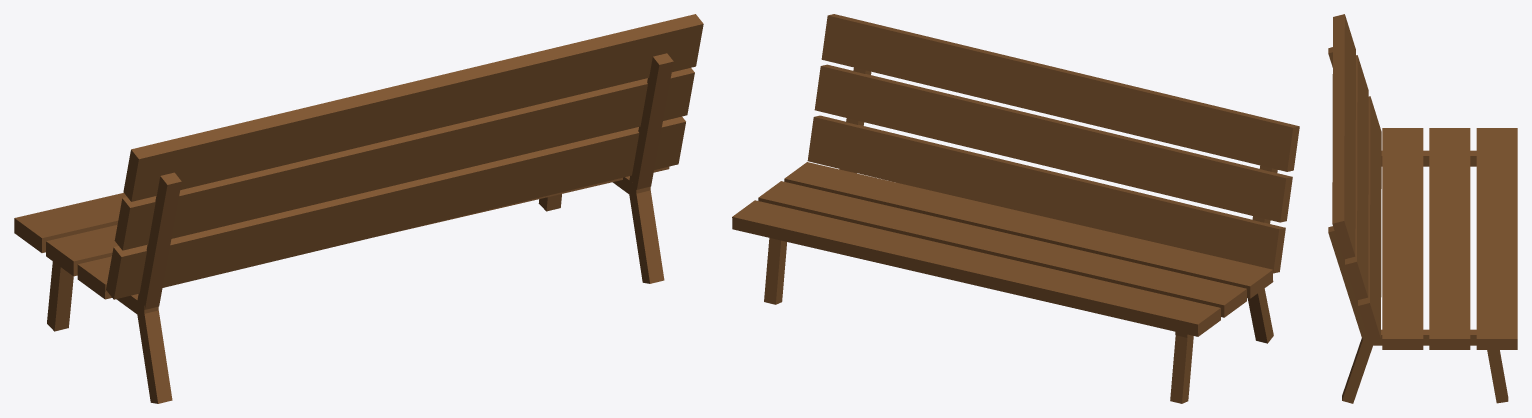
3 renders of one model, left to right at view 1: azimuth 30°, elevation 25°; view 2: azimuth 150°, elevation 25°; view 3: azimuth 270°, elevation 25°, orthographic. The views are drawn at different scales.
Visible parts, largest first — view 1: Cube.003, Cube.005, Cube.004, Cube.002, Cube.011, Cube.007, Cube.001, Cube.009, Cube.013, Cube, Cube.012; view 2: Cube.003, Cube.004, Cube.005, Cube.002, Cube.001, Cube, Cube.012, Cube.008, Cube.013; view 3: Cube, Cube.001, Cube.002, Cube.003, Cube.005, Cube.004, Cube.009, Cube.007, Cube.008, Cube.006, Cube.010.
Boxes of the visible parts, <box> form: Cube.003: <box>123,14,703,201</box>; Cube.005: <box>106,116,685,299</box>; Cube.004: <box>114,68,694,250</box>; Cube.002: <box>14,193,126,252</box>; Cube.011: <box>137,172,181,309</box>; Cube.007: <box>629,53,673,189</box>; Cube.001: <box>46,225,118,276</box>; Cube.009: <box>628,187,664,283</box>; Cube.013: <box>137,310,172,403</box>; Cube: <box>77,166,669,299</box>; Cube.012: <box>47,261,73,331</box>; Cube.003: <box>821,14,1299,171</box>; Cube.004: <box>814,64,1292,222</box>; Cube.005: <box>807,115,1285,273</box>; Cube.002: <box>732,200,1220,336</box>; Cube.001: <box>758,181,1246,317</box>; Cube: <box>784,162,1273,298</box>; Cube.012: <box>1170,335,1193,403</box>; Cube.008: <box>764,238,786,304</box>; Cube.013: <box>1247,288,1273,343</box>; Cube: <box>1382,128,1423,349</box>; Cube.001: <box>1429,128,1470,349</box>; Cube.002: <box>1476,128,1517,349</box>; Cube.003: <box>1332,14,1355,259</box>; Cube.005: <box>1358,96,1381,341</box>; Cube.004: <box>1345,55,1368,300</box>; Cube.009: <box>1342,338,1373,403</box>; Cube.007: <box>1328,226,1367,337</box>; Cube.008: <box>1487,350,1508,403</box>; Cube.006: <box>1362,329,1476,345</box>; Cube.010: <box>1381,150,1476,166</box>.
Size of the model in its own units: 10.03 by 4.47 by 3.91.
